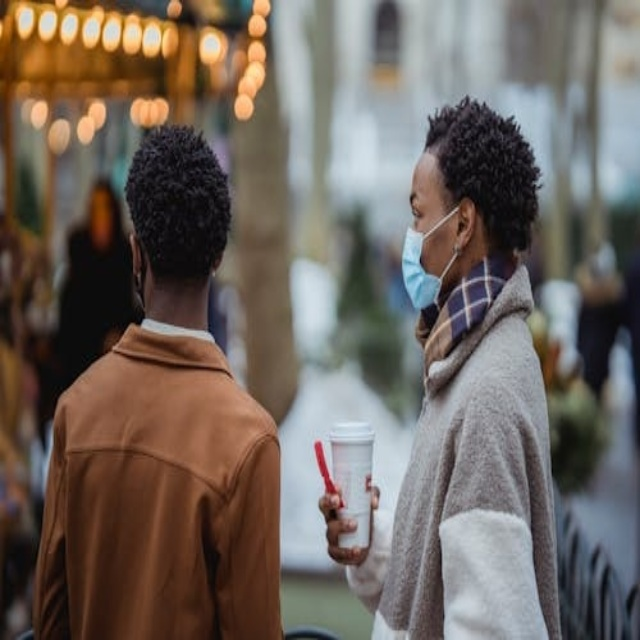Mascara: (401, 204, 460, 310)
Sin_gafas: (403, 185, 443, 229)
Sin_guantes: (319, 481, 374, 567)
